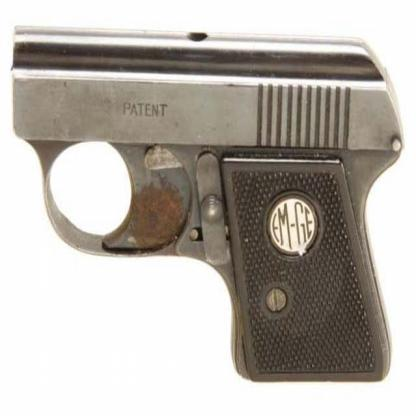gun: (7, 6, 405, 395)
